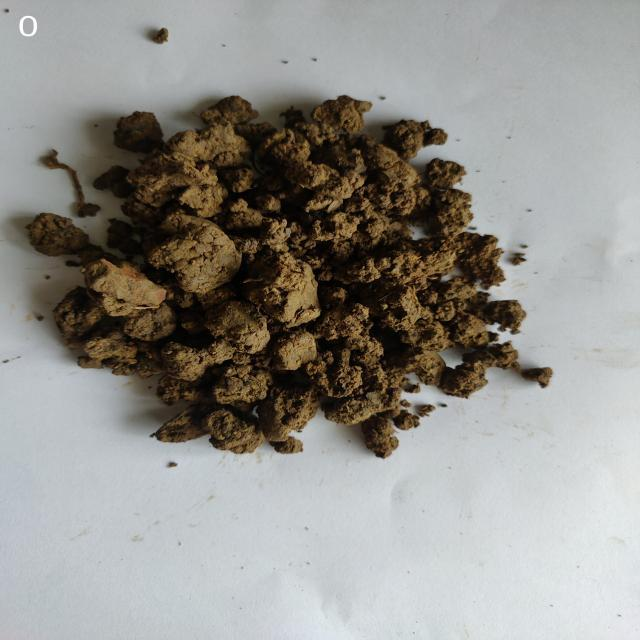soil: (151, 170, 412, 388)
